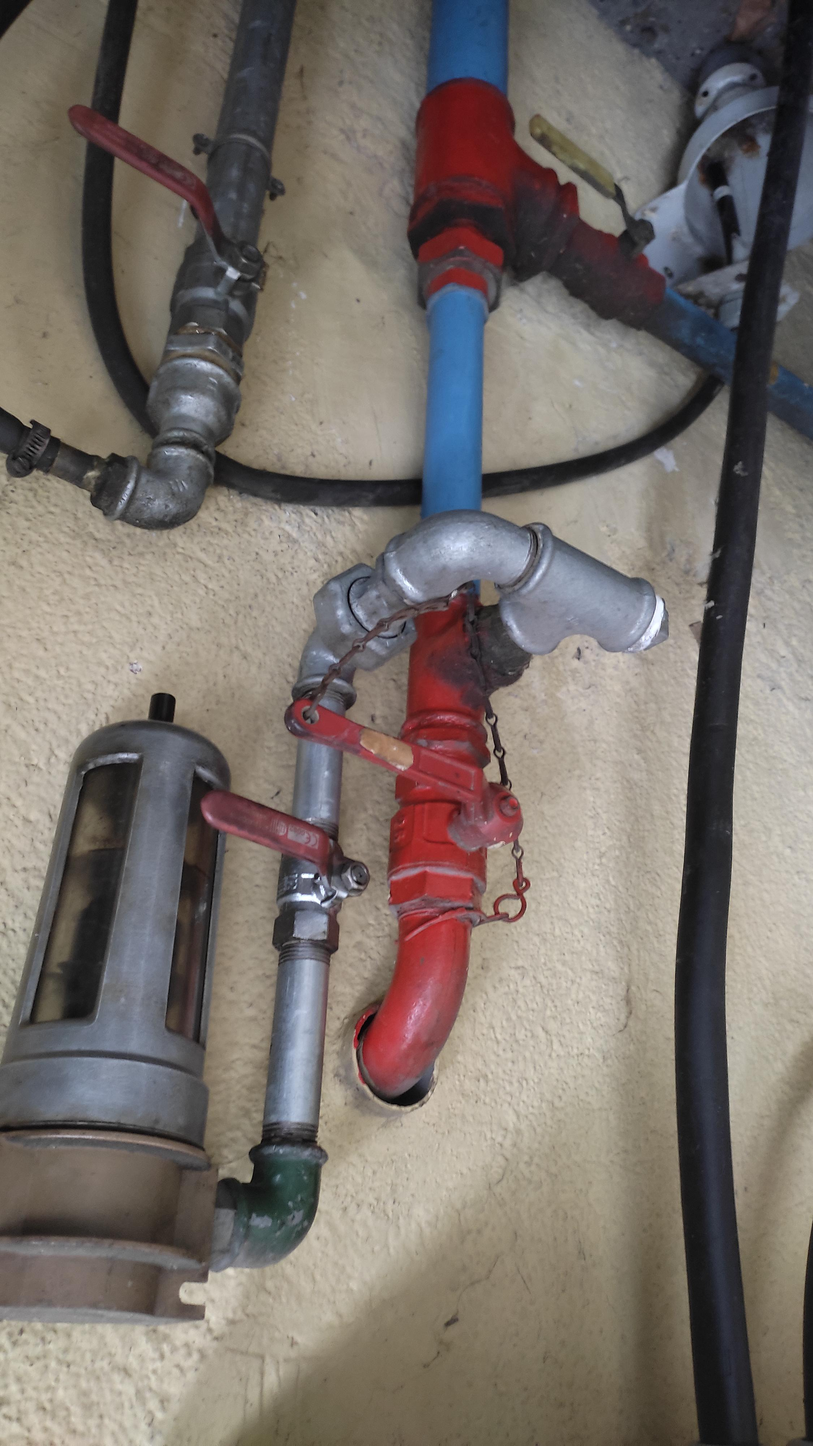closed valve: (283, 686, 531, 937), (66, 102, 276, 387), (198, 785, 374, 953)
opened valve: (525, 108, 673, 338)
